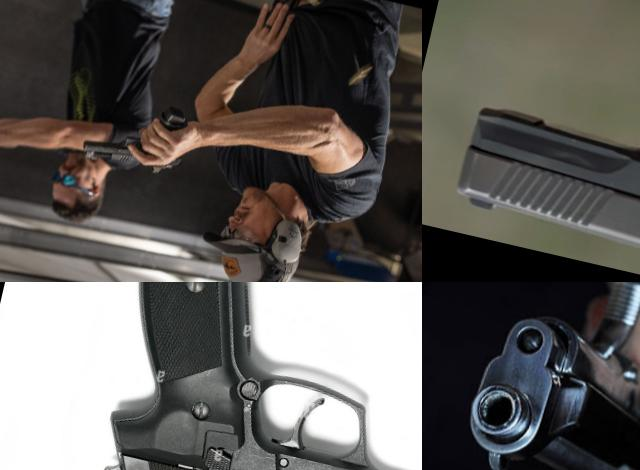handgun: (75, 282, 422, 470), (439, 41, 640, 282), (442, 282, 640, 470), (74, 81, 195, 181), (0, 101, 35, 168)
